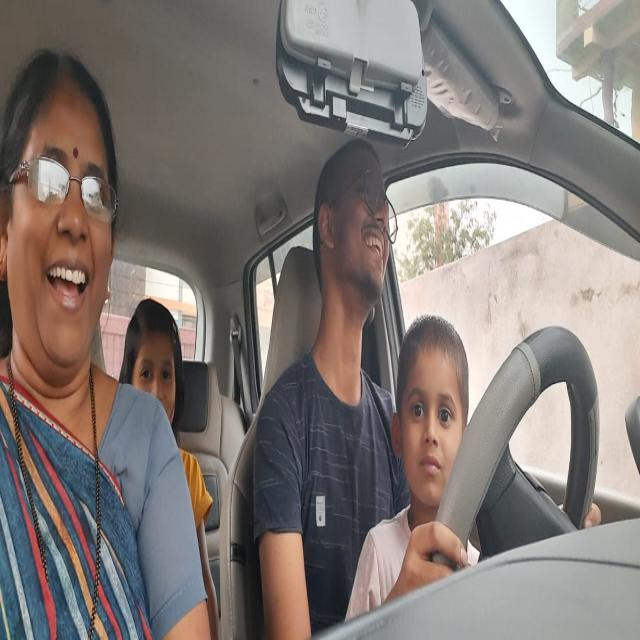child: (394, 308, 470, 518)
person: (2, 48, 117, 392), (314, 133, 398, 340), (122, 288, 188, 453)
